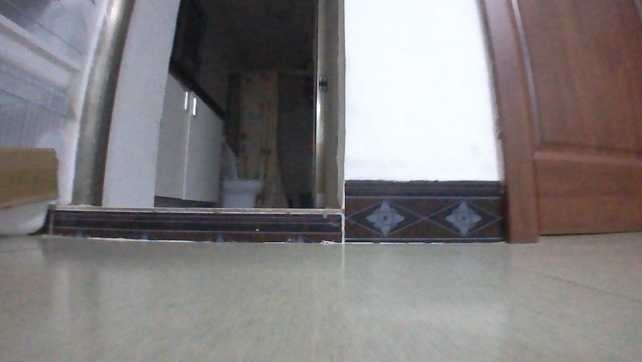door_sill: (48, 200, 342, 246)
toilet: (220, 136, 265, 207)
